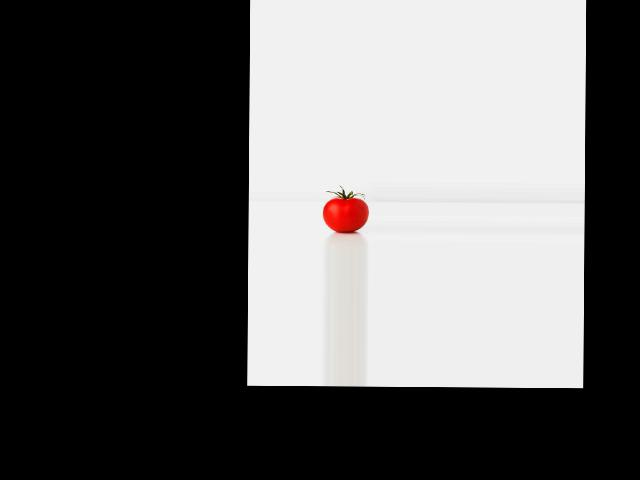tomato: (322, 197, 368, 232)
